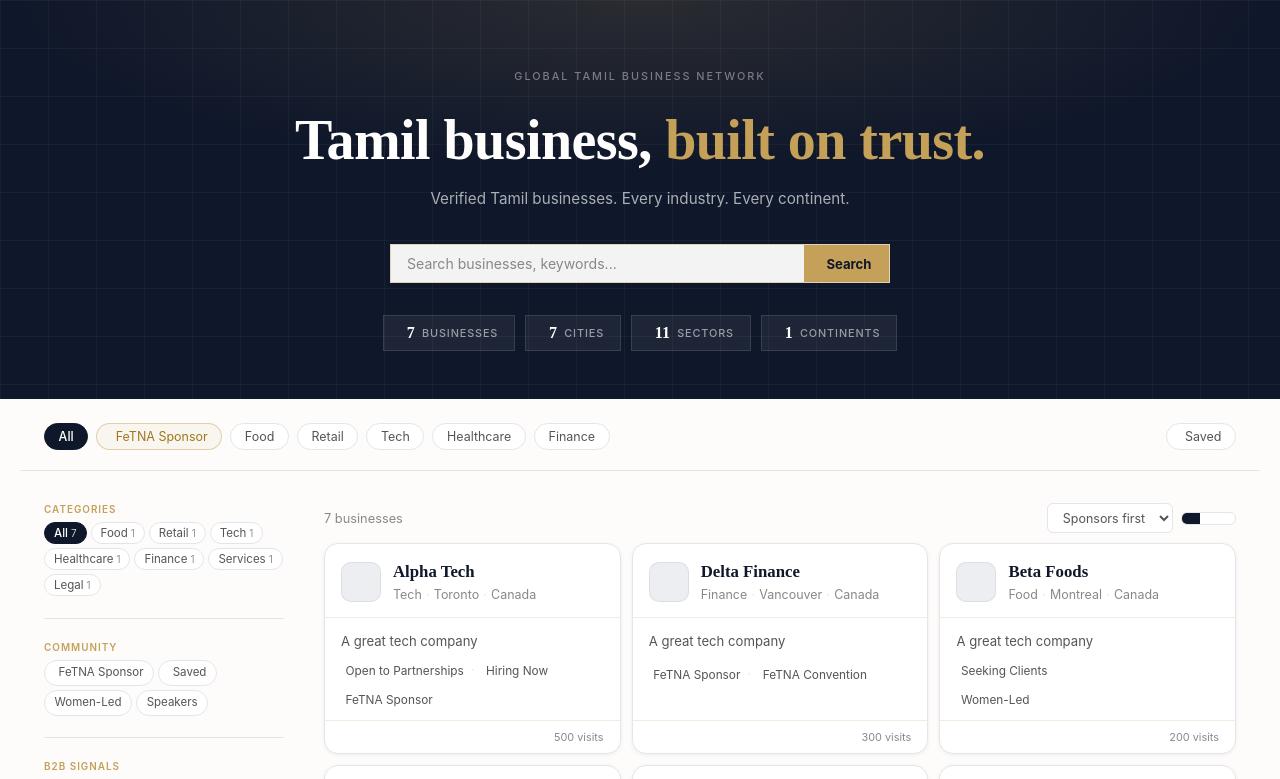
it: DirectoryClient — business detail modal › opens BusinessModal when a card is clicked
Click the element with class "biz-card" that starts with "Alpha Tech": [472, 648] box x1=324 y1=543 x2=620 y2=754
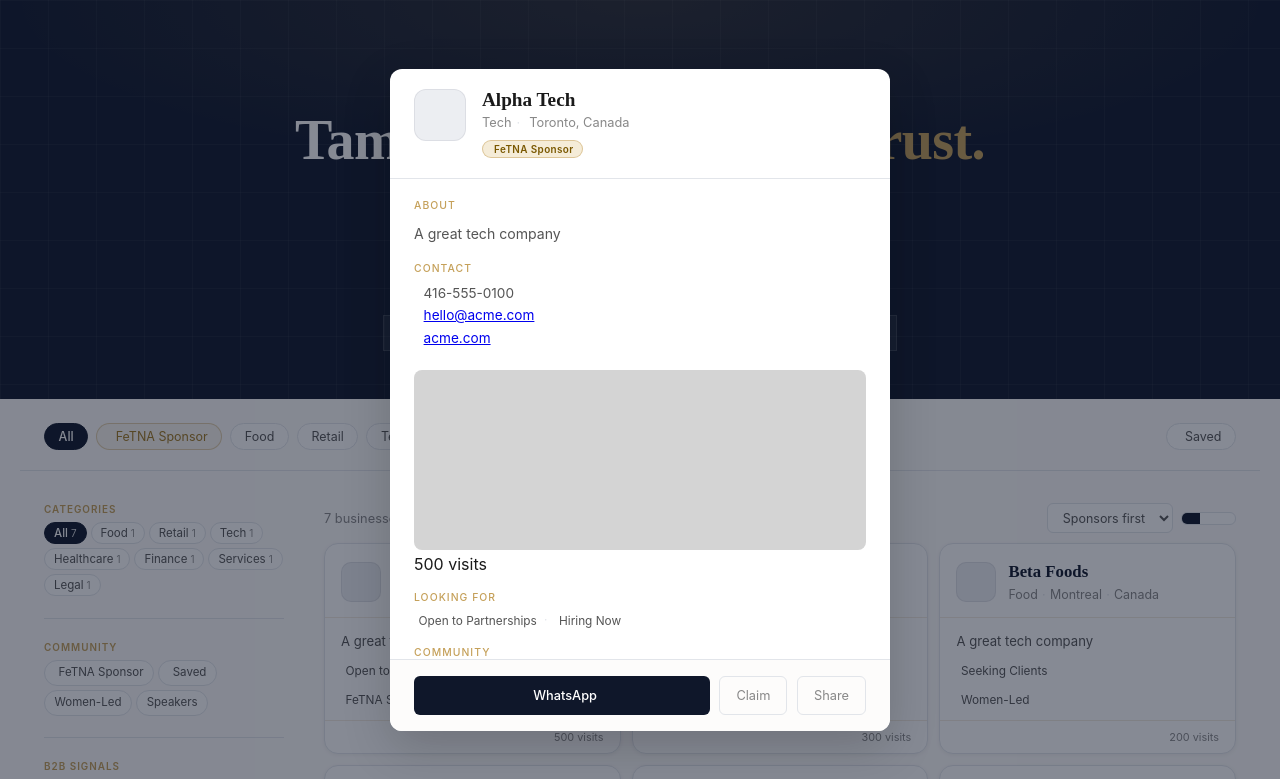
Expected: the element with class "detail-panel" is shown, x1=390 y1=69 x2=890 y2=731
Expected: the text with class "detail-sec" reads "About", x1=414 y1=199 x2=456 y2=212
